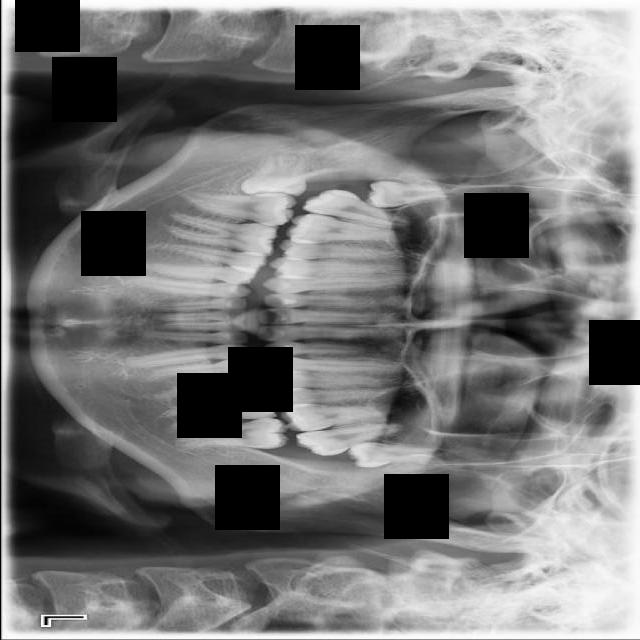3M ESPE Implant: (364, 179, 469, 212)
52: (227, 383, 280, 427)
73: (52, 598, 62, 606)
BioHorizons Implant: (294, 421, 406, 460)
BioLife Implant: (346, 441, 435, 470)
Blue Sky Bio Implant: (176, 418, 289, 449)
Caries: (299, 183, 413, 229)
Implant: (187, 191, 296, 227)
Keystone Dental Implant: (238, 150, 307, 199)
